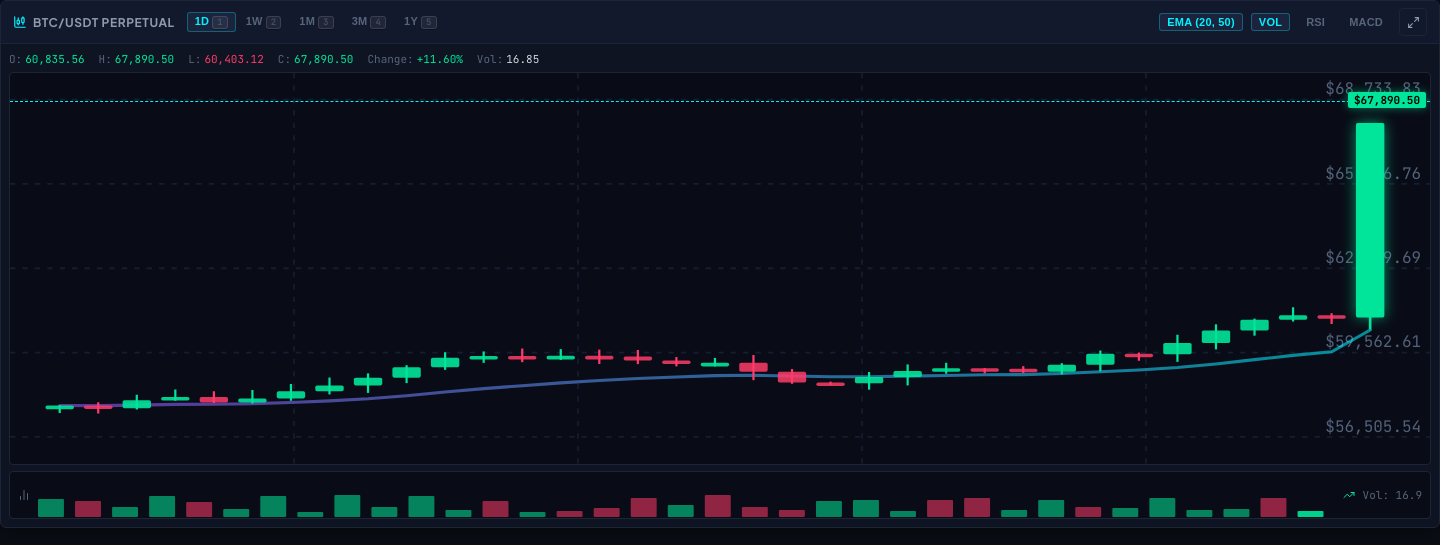
Scenario: Phase 7 — Trading Chart Feature › toggles indicators on and off
The width and height of the screenshot is (1440, 545).
# Toggle off
Click the button with test id "indicator-VOL" at (1270, 22), box [1251, 13, 1290, 31]
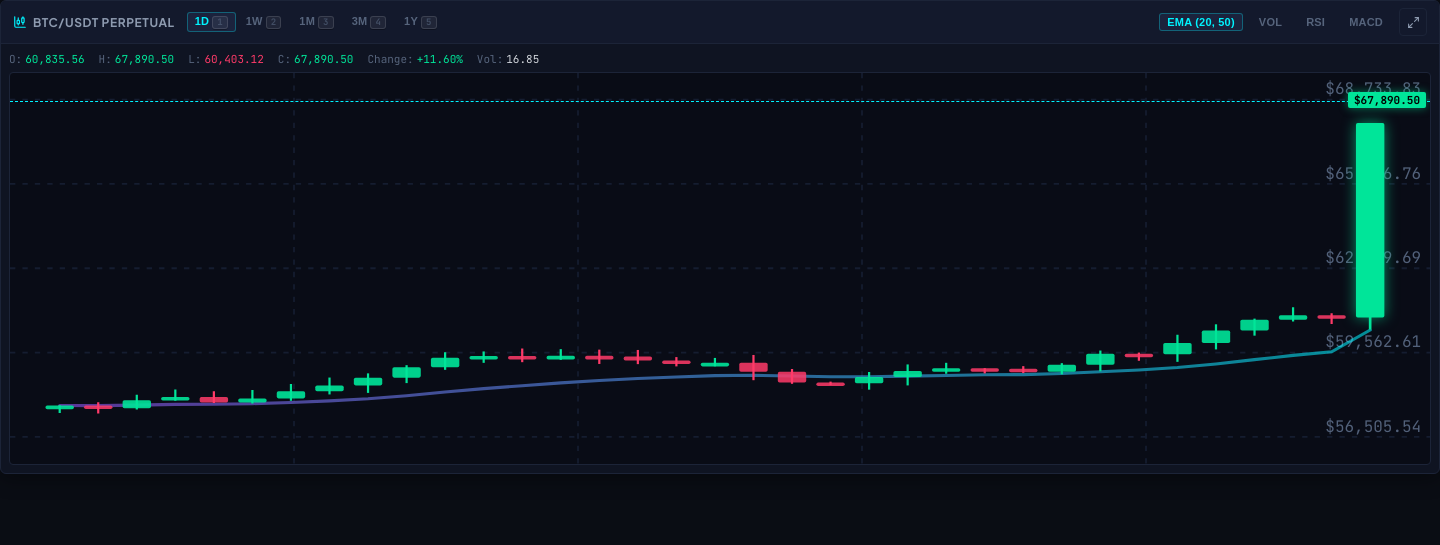
Expected: the element with test id "volume-subchart" is gone
# Toggle back on
Click the button with test id "indicator-VOL" at (1270, 22), box [1251, 13, 1290, 31]
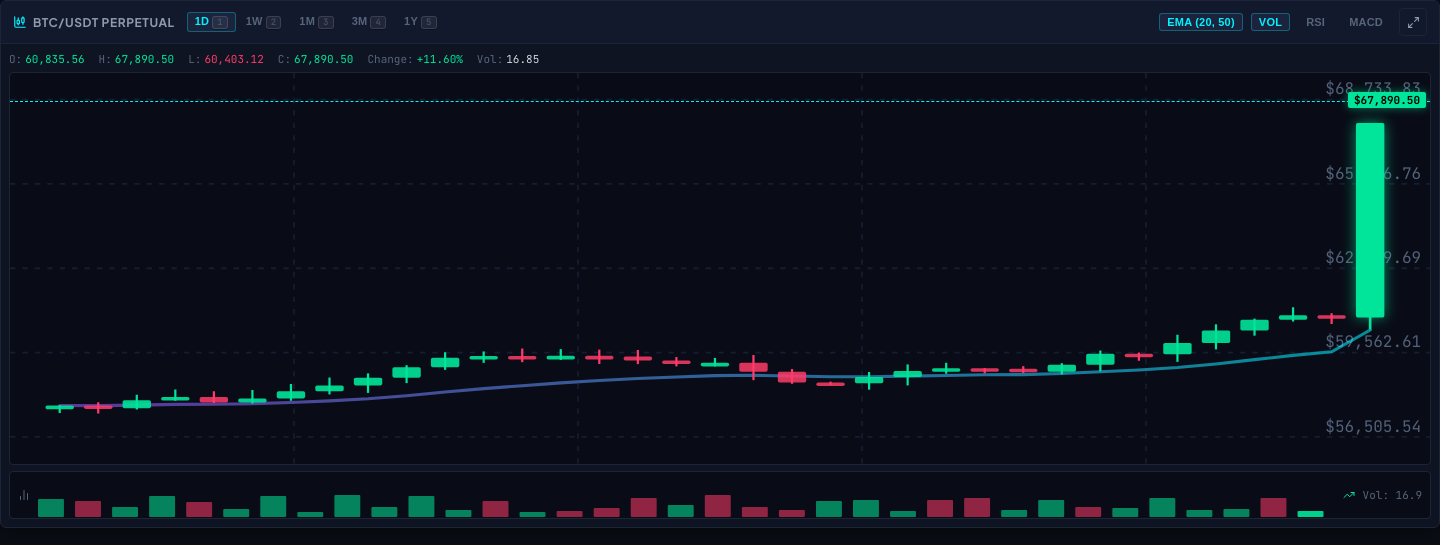
Expected: the element with test id "volume-subchart" is shown, [9, 470, 1431, 518]
